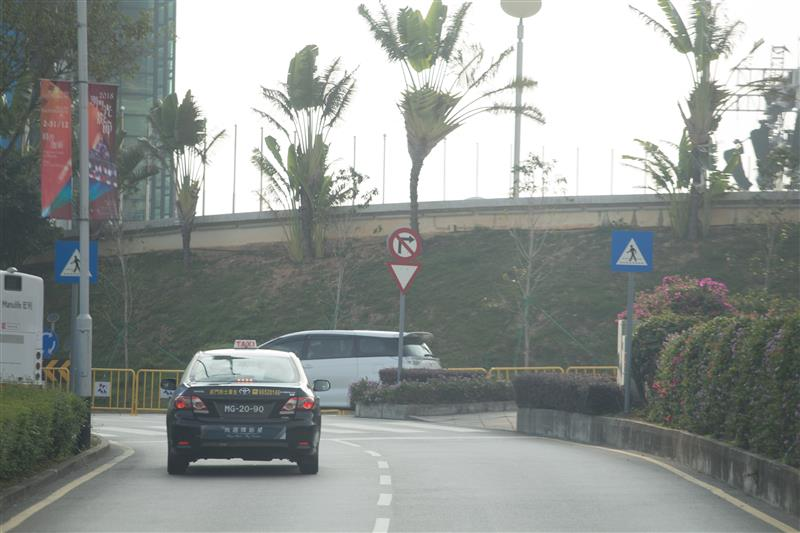noRightTurn: (387, 226, 422, 262)
pedestrianCrossing: (608, 227, 654, 271)
yield: (385, 259, 422, 292)
